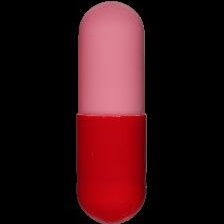55700-207: (0, 0, 224, 224)
